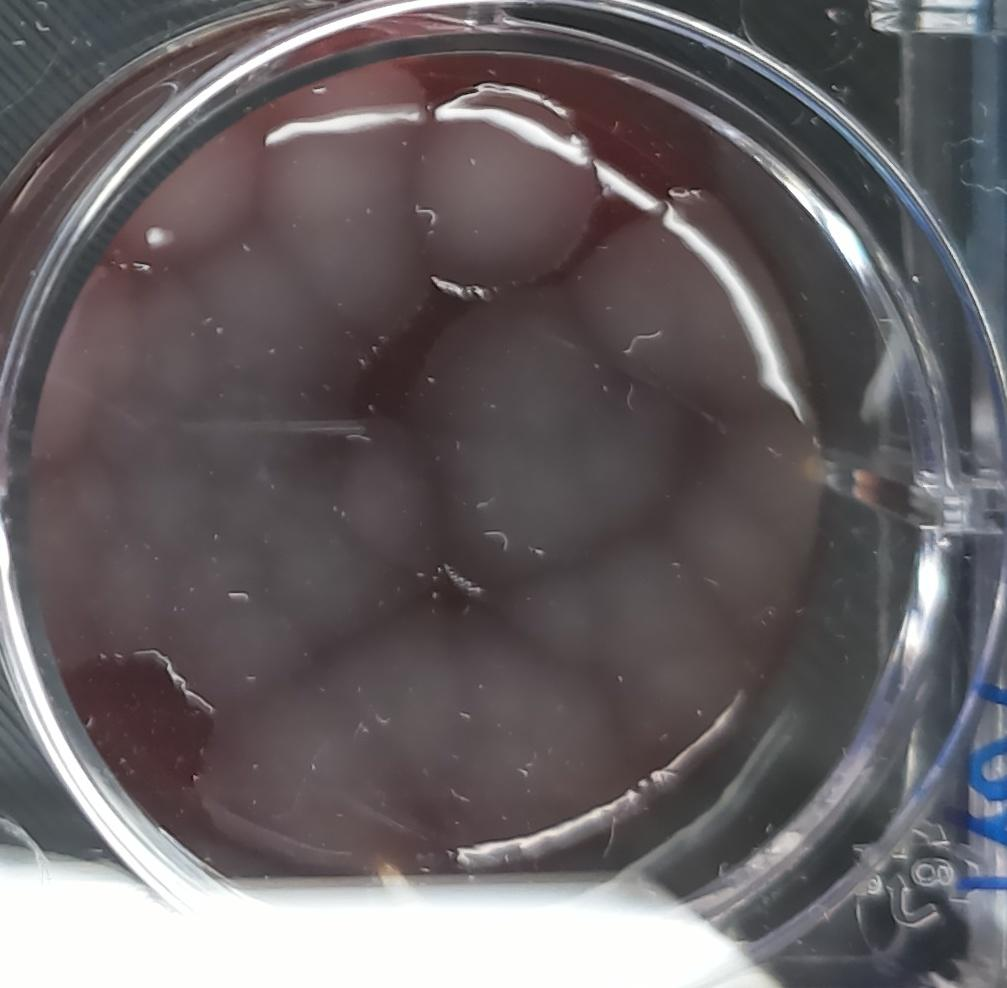valgino: (46, 274, 384, 649), (389, 290, 677, 568), (578, 160, 828, 429), (177, 659, 436, 876), (373, 596, 623, 820), (258, 62, 436, 329), (409, 74, 612, 298), (666, 409, 844, 640)
